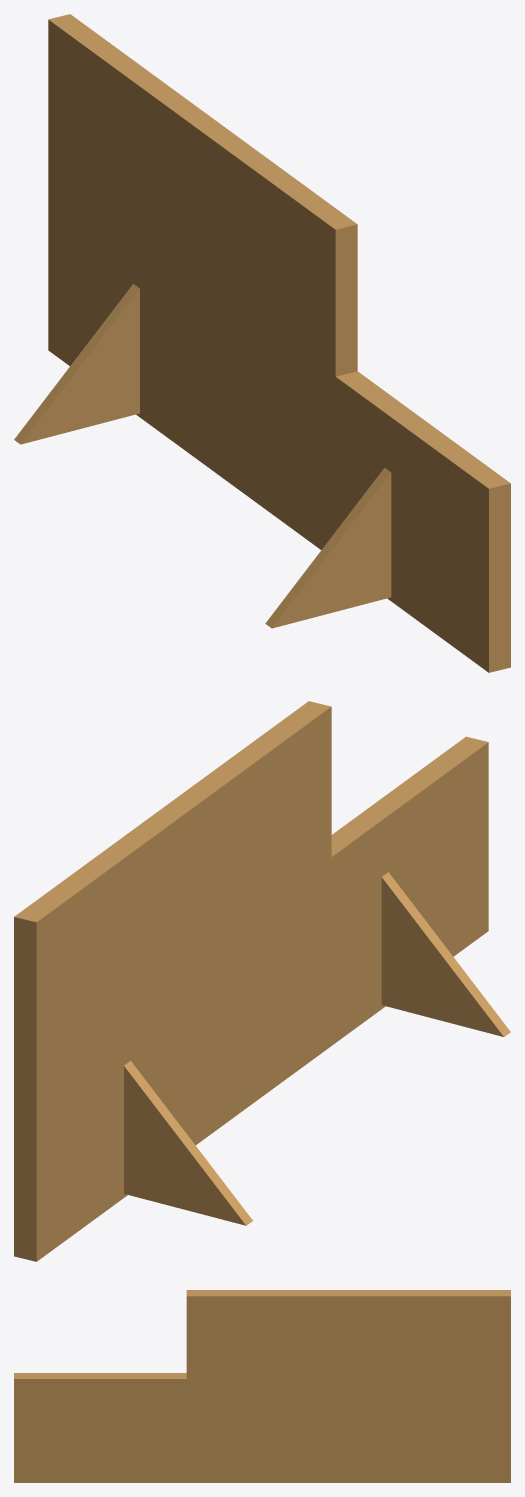
The model's file is (Noir)VehicleCarboardCutoutWIP.fbx.
3 views of the same model, one above another, from view 1: azimuth 30°, elevation 25°; view 2: azimuth 150°, elevation 25°; view 3: azimuth 270°, elevation 25° (orthographic). The views are drawn at different scales.
Visible parts, largest first — view 1: Cutout; view 2: Cutout; view 3: Cutout.
Part boxes in pixels (x1,y1,x2,y2): Cutout: [14, 14, 510, 672]; Cutout: [14, 701, 510, 1261]; Cutout: [14, 1290, 510, 1482].
Bounding box in the file's own units: 103 × 231 × 558.
